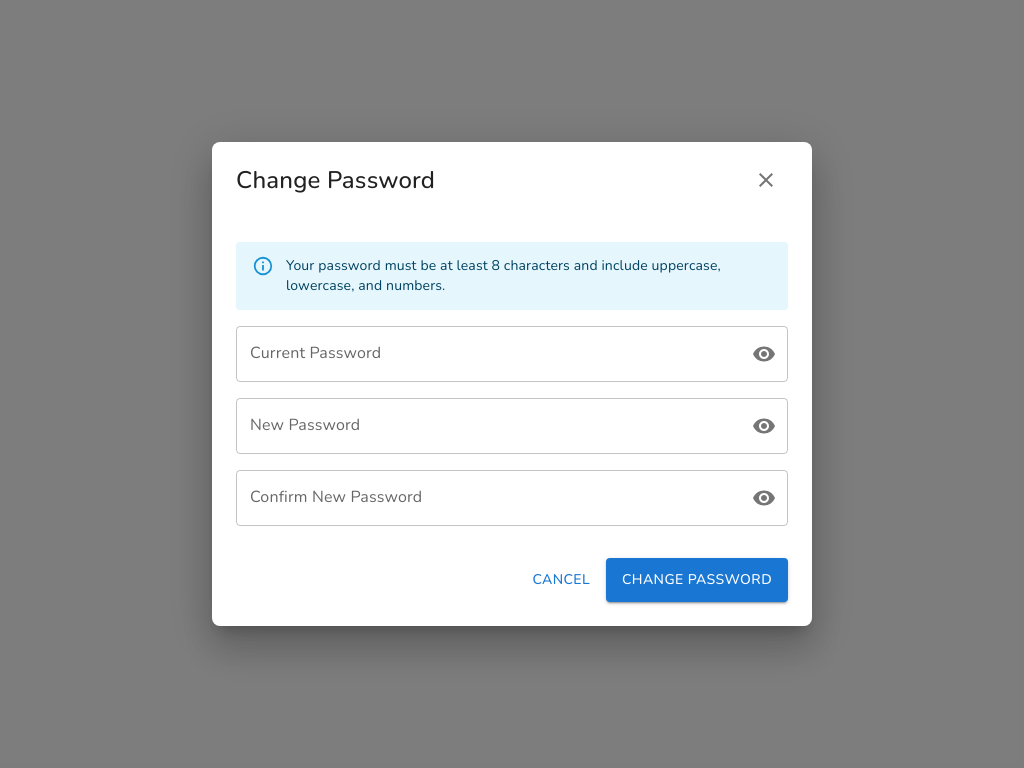
Test case: ChangePasswordDialog › Form Validation › should show error when current password is empty
Click the button "Change Password" at [697, 580], box [606,558,788,602]
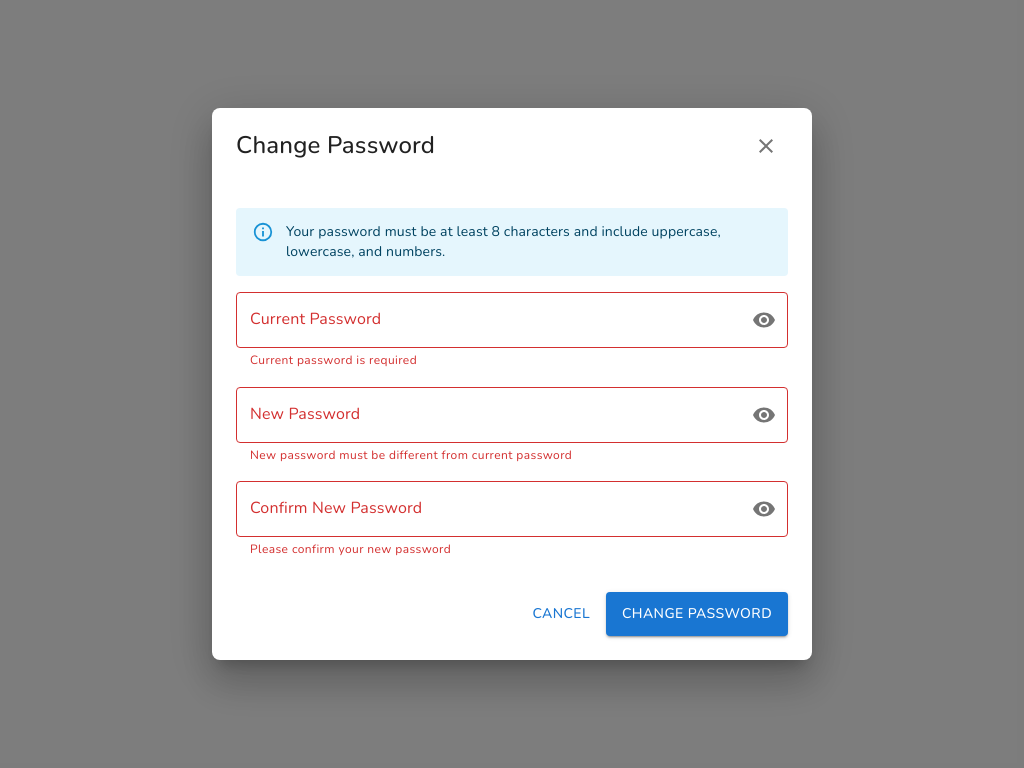
Expected: the text "Current password is required" is shown, [250,352,417,368]
